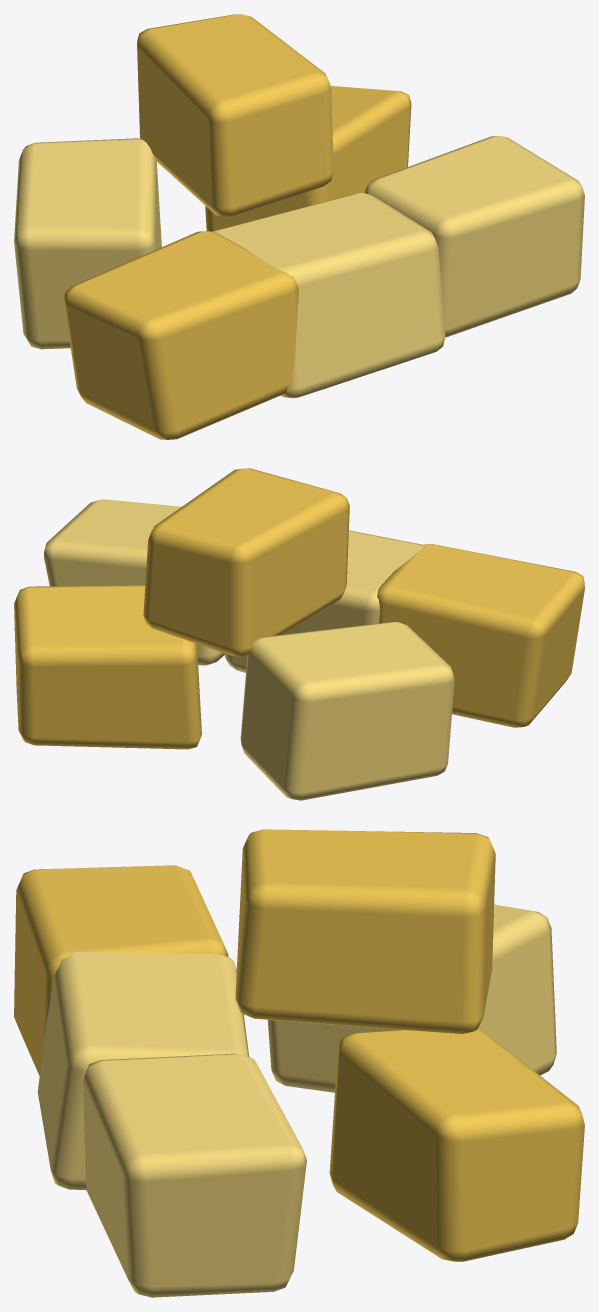
The model's file is Tofu_Chopped.glb.
The picture shows the model from 3 angles, top to bottom: view 1: azimuth 30°, elevation 25°; view 2: azimuth 150°, elevation 25°; view 3: azimuth 270°, elevation 25°; orthographic projection. The views are drawn at different scales.
Visible parts, largest first — view 1: Tofu_Chopped; view 2: Tofu_Chopped; view 3: Tofu_Chopped.
Part boxes in pixels (box(x1,y1,x2,y2)): Tofu_Chopped: box(14, 14, 584, 439); Tofu_Chopped: box(14, 468, 584, 800); Tofu_Chopped: box(14, 829, 584, 1297).
Size of the model in its own units: 0.1374 by 0.0644 by 0.1088.
